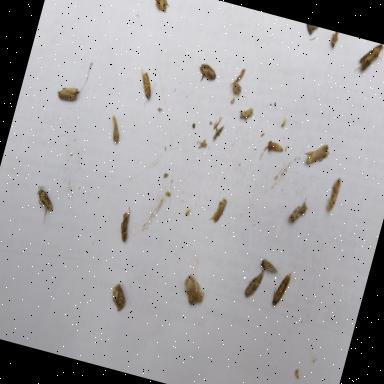pbw: (28, 184, 58, 226), (131, 67, 159, 110), (354, 39, 384, 77), (178, 272, 208, 308), (270, 268, 293, 310), (302, 138, 332, 170), (116, 204, 137, 242), (243, 266, 266, 300), (107, 281, 130, 313), (288, 195, 311, 226), (325, 176, 343, 213), (106, 113, 125, 145), (208, 194, 228, 224), (57, 84, 81, 106), (196, 62, 218, 82), (258, 258, 280, 274), (266, 140, 285, 156), (150, 0, 172, 13), (240, 105, 254, 121), (236, 66, 246, 84), (232, 79, 244, 94)
